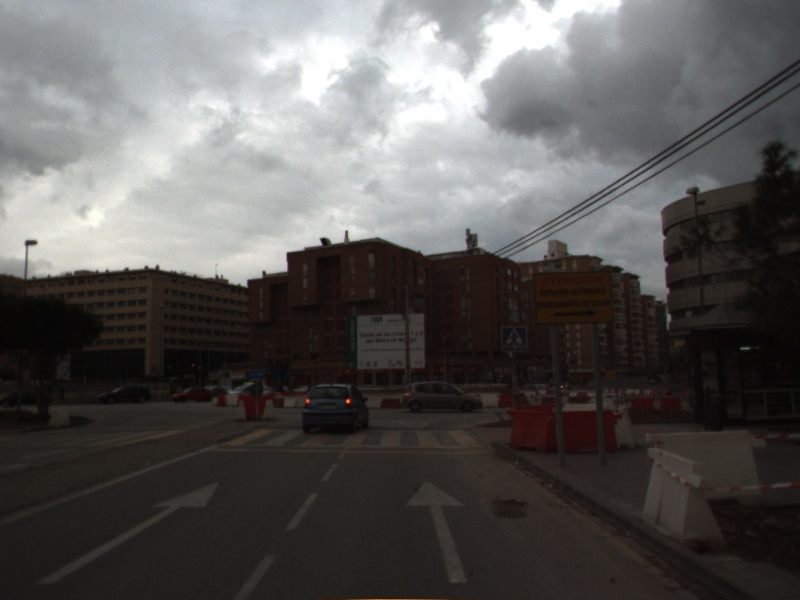STRAIGHT: (33, 477, 222, 588), (402, 476, 472, 585)
